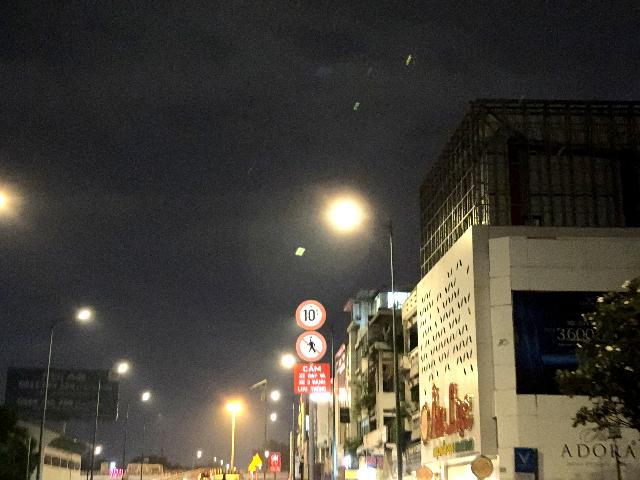cam-nguoi-di-bo: (296, 331, 327, 362)
han-che-trong-luong-xe: (295, 299, 326, 331)
